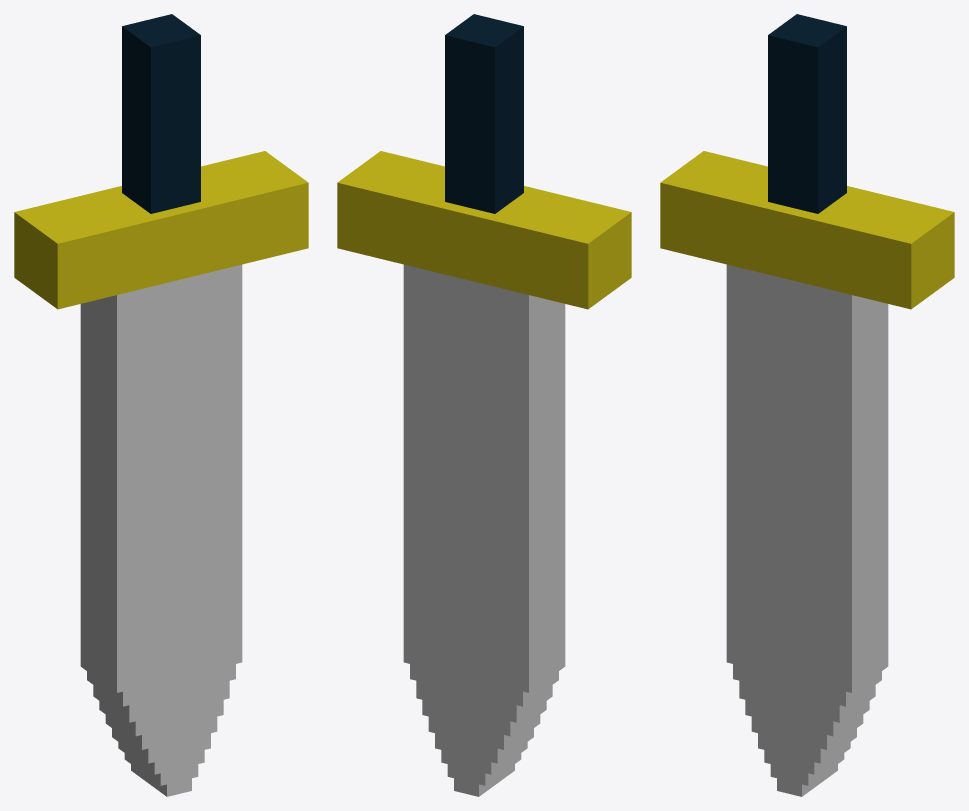
Rendered from sword3.obj.
The picture shows the model from 3 angles, left to right: view 1: azimuth 30°, elevation 25°; view 2: azimuth 150°, elevation 25°; view 3: azimuth 330°, elevation 25°; orthographic projection.
Parts seen in each view (by area): view 1: obj1; view 2: obj1; view 3: obj1.
Boxes of the visible parts, <box> form: obj1: <box>14,14,308,796</box>; obj1: <box>337,14,631,796</box>; obj1: <box>660,14,954,796</box>.
Size of the model in its own units: 20 by 57.14 by 6.
